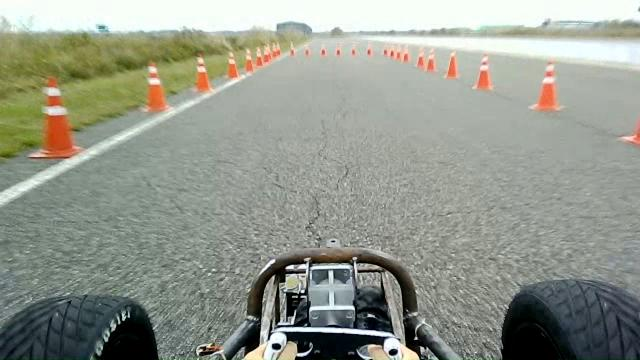red cone: (27, 75, 84, 159), (528, 59, 565, 112), (141, 60, 171, 113), (193, 53, 214, 94), (472, 53, 494, 91), (444, 50, 460, 79), (226, 51, 240, 80), (425, 48, 436, 72), (244, 48, 254, 74), (416, 47, 424, 68), (255, 46, 263, 66), (263, 43, 271, 62)
